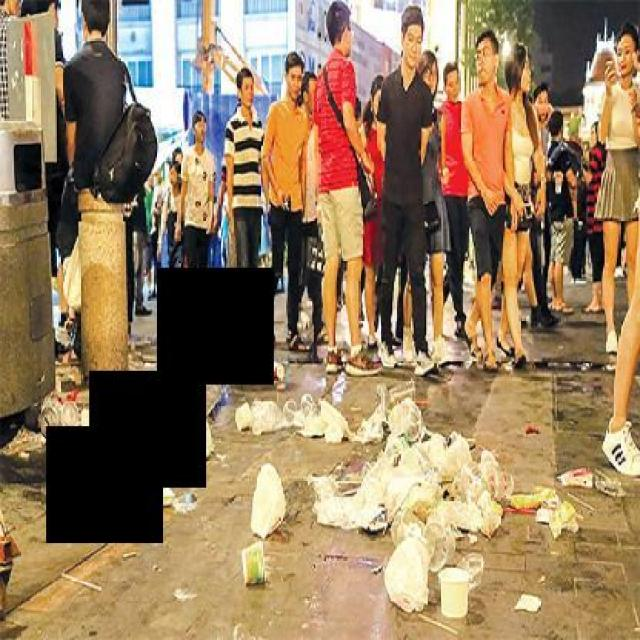plastic bag: (45, 332, 566, 637)
